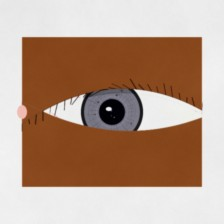pterygium_lesion: (145, 89, 203, 135)
